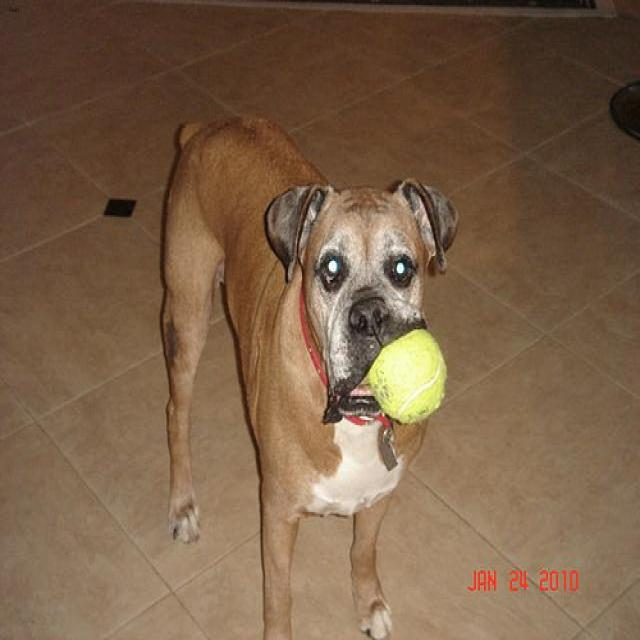dog-boxer: (152, 104, 465, 637)
